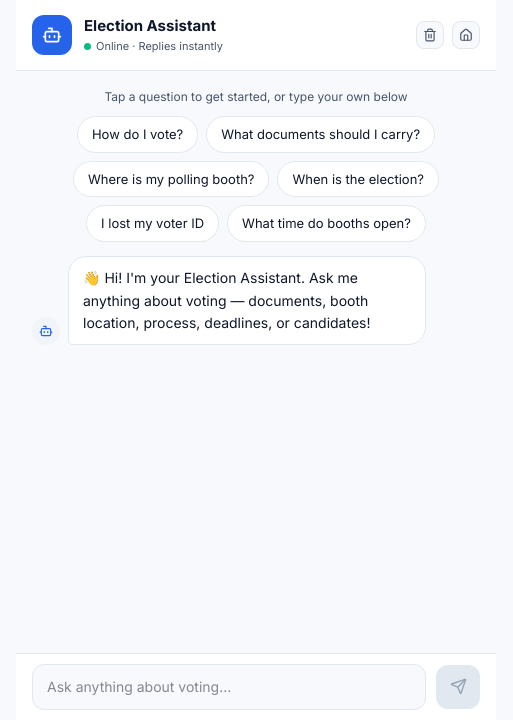
Test: ChatPage › clear button resets to welcome message
Click the button with aria-label "ask: how do i vote": [138, 134] box left=77, top=116, right=198, bottom=153
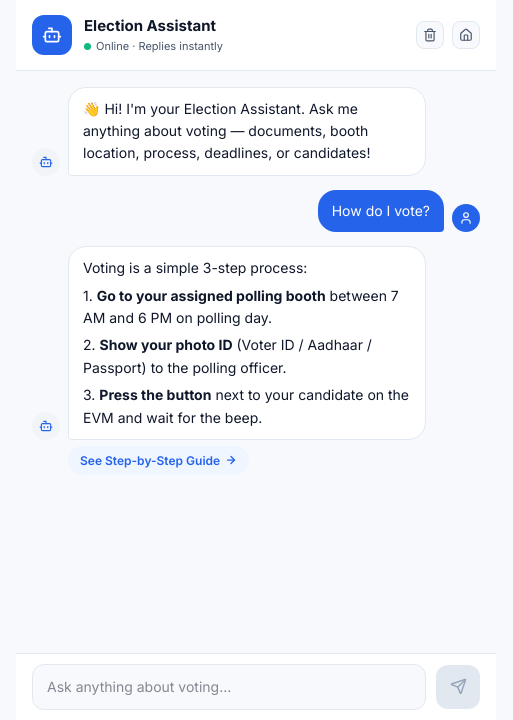
Click the button titled "clear conversation": [430, 35] box left=416, top=21, right=444, bottom=49
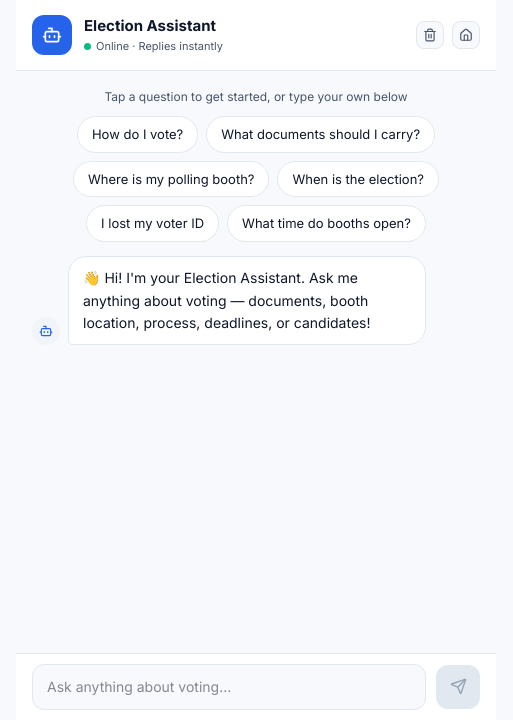
Result: the number of elements named "assistant reply" is 1 at left=68, top=256, right=426, bottom=345
